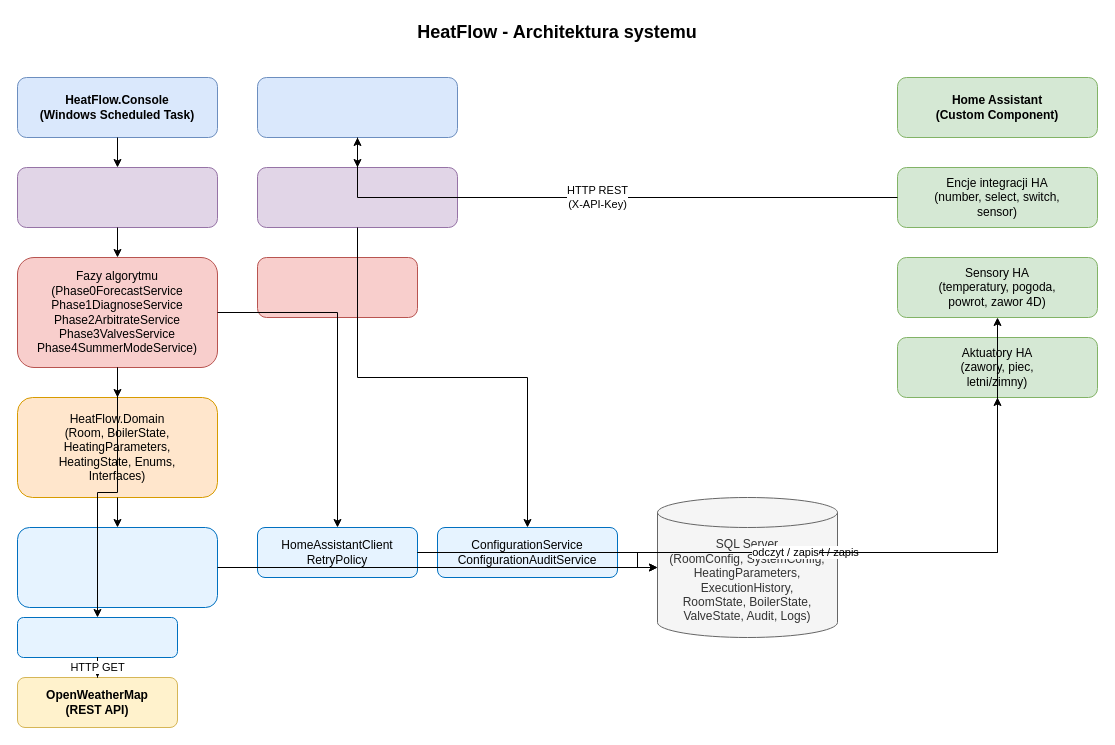
The diagram is 1115 pixels wide and 745 high, and some of its shapes have lost their labels. The shapes that lost their labels are listed below. From the top down, each one's box as (x1, y1, x2, y2) in pixels, then its label:
(256, 76, 458, 138): HeatFlow.Api (Windows Service / Kestrel)
(16, 166, 218, 228): OrchestrationService DataPersistenceService
(256, 166, 458, 228): Controllers (Rooms, HeatingParams, Health, ErrorLogs, Audit)
(256, 256, 418, 318): Helpery (ScheduleHelper TemperatureHelper)
(16, 526, 218, 608): HeatFlowDbContext (EF Core + SQL Server) Repositories ApplicationErrorLogger
(16, 616, 178, 658): OpenWeatherMapClient
